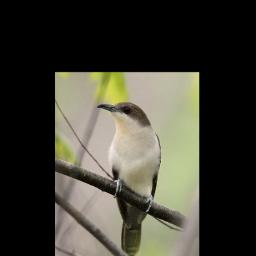Cuckoo: (96, 101, 162, 256)
